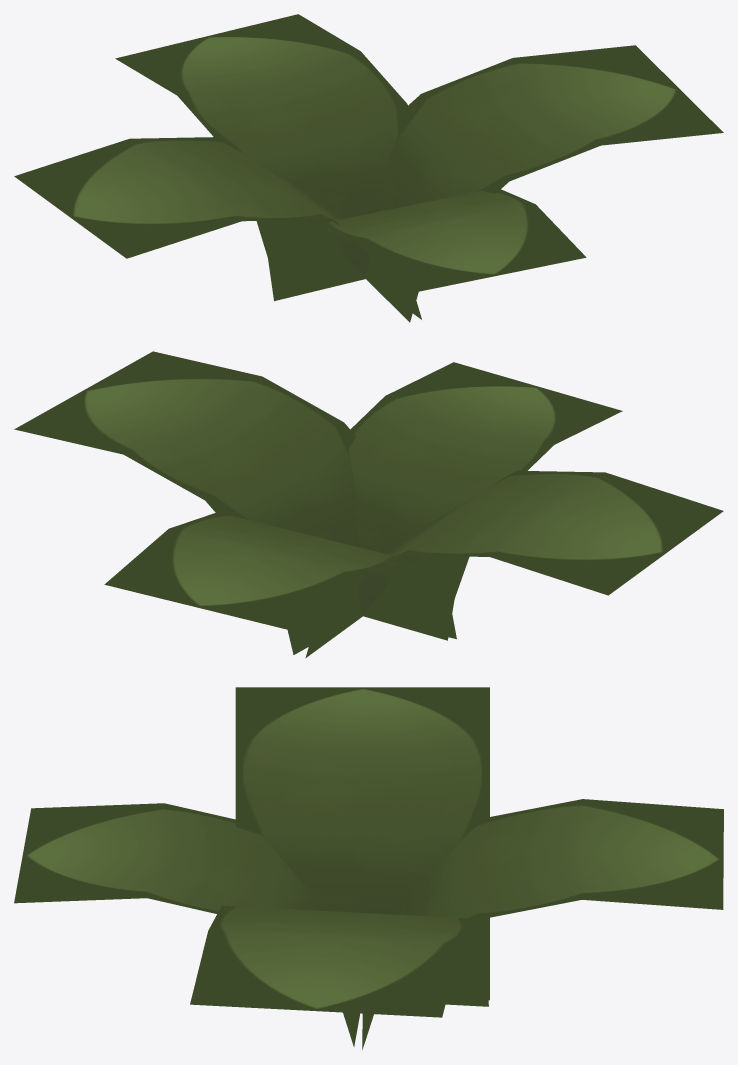
The model's file is SM_Leafy_Foliage_4.fbx.
3 renders of one model, top to bottom at view 1: azimuth 30°, elevation 25°; view 2: azimuth 150°, elevation 25°; view 3: azimuth 270°, elevation 25°, orthographic. The views are drawn at different scales.
Parts seen in each view (by area): view 1: SM_Leafy_Foliage_4_LOD0; view 2: SM_Leafy_Foliage_4_LOD0; view 3: SM_Leafy_Foliage_4_LOD0.
Part boxes in pixels (left/top/right/bottom): SM_Leafy_Foliage_4_LOD0: left=14, top=14, right=723, bottom=322; SM_Leafy_Foliage_4_LOD0: left=14, top=351, right=723, bottom=658; SM_Leafy_Foliage_4_LOD0: left=14, top=687, right=723, bottom=1049.
Bounding box in the file's own units: 45.71 × 41.51 × 10.39.
Materials: 1 (1 with a texture image).
